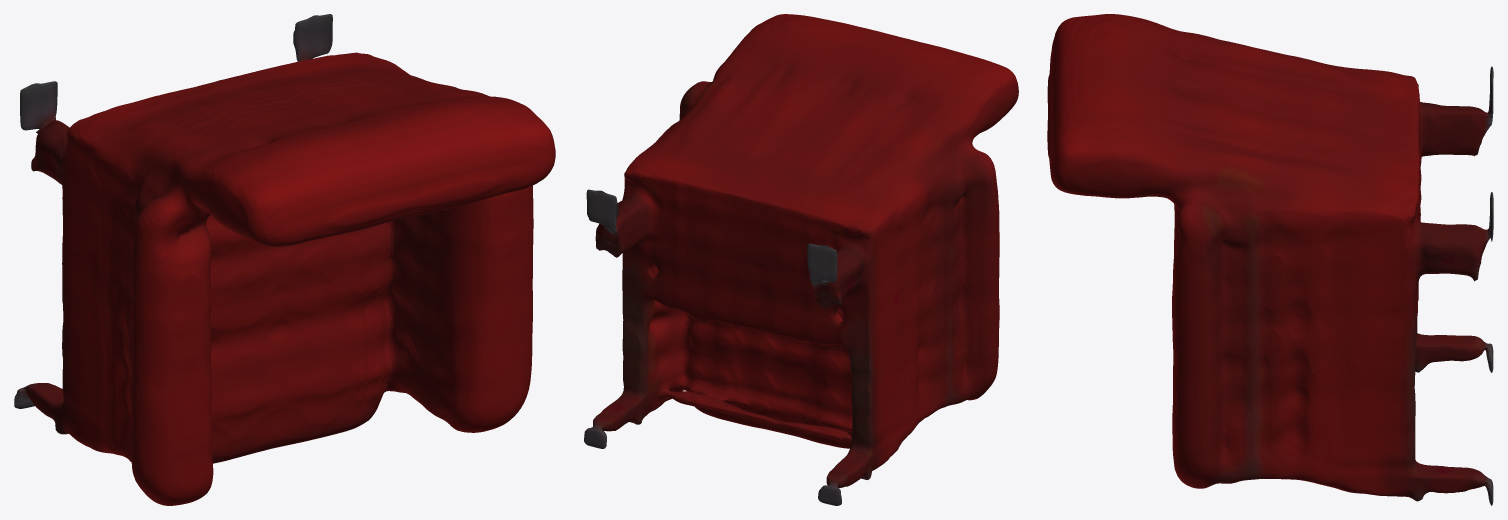
Rendered from phase1_chair_processed.glb.
3 views of the same model, side by side, from view 1: azimuth 30°, elevation 25°; view 2: azimuth 150°, elevation 25°; view 3: azimuth 270°, elevation 25° (orthographic). The views are drawn at different scales.
Visible parts, largest first — view 1: world; view 2: world; view 3: world.
Part boxes in pixels (bbox=[...]): world: bbox=[14, 14, 555, 505]; world: bbox=[584, 14, 1018, 505]; world: bbox=[1047, 14, 1493, 505].
Bounding box in the file's own units: 1.9 × 1.83 × 1.98.
